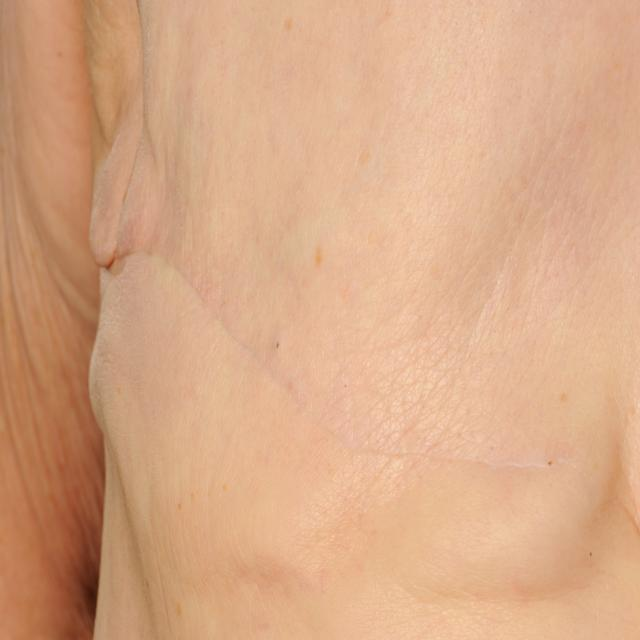wound: (123, 240, 552, 504)
